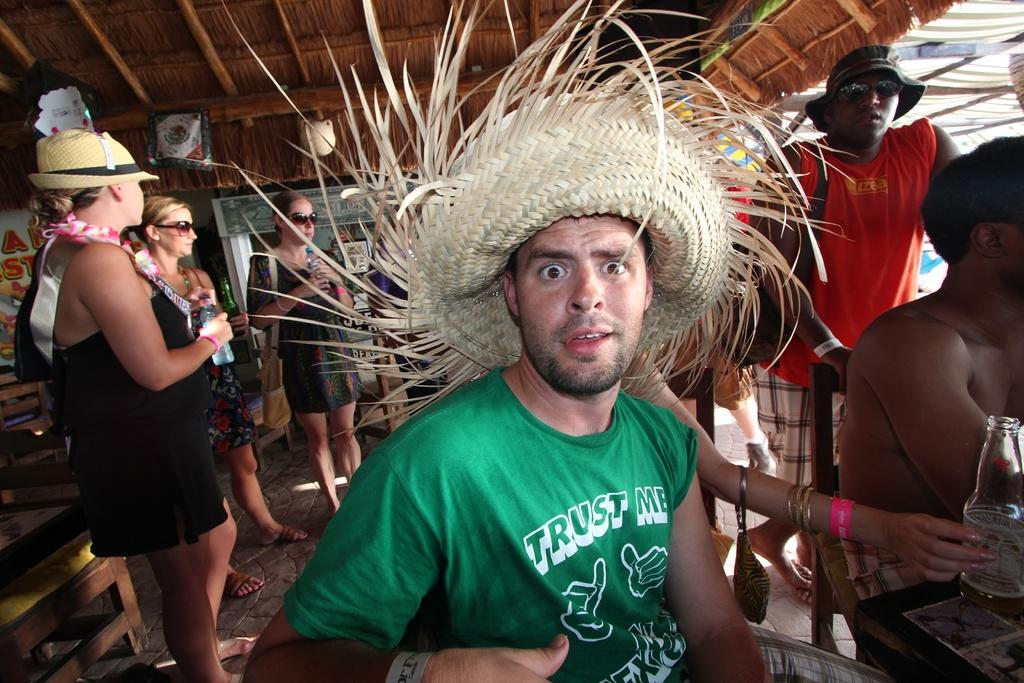Hat: (230, 0, 856, 443), (801, 44, 926, 132), (32, 127, 161, 194)
